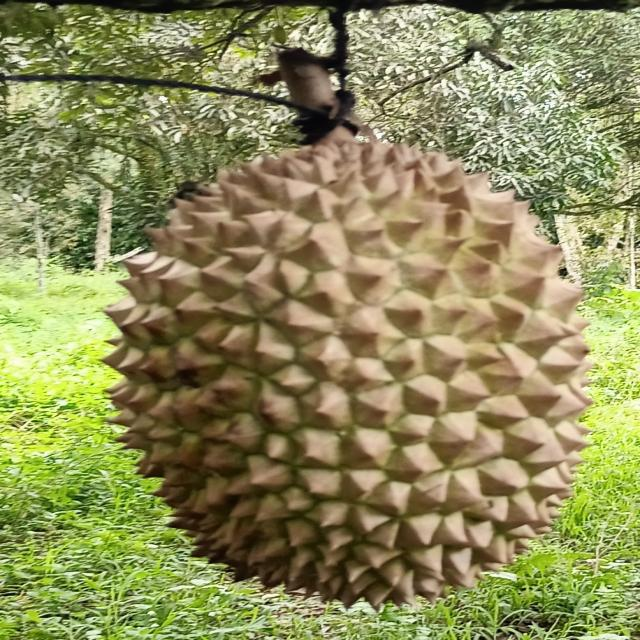mature: (97, 142, 589, 606)
